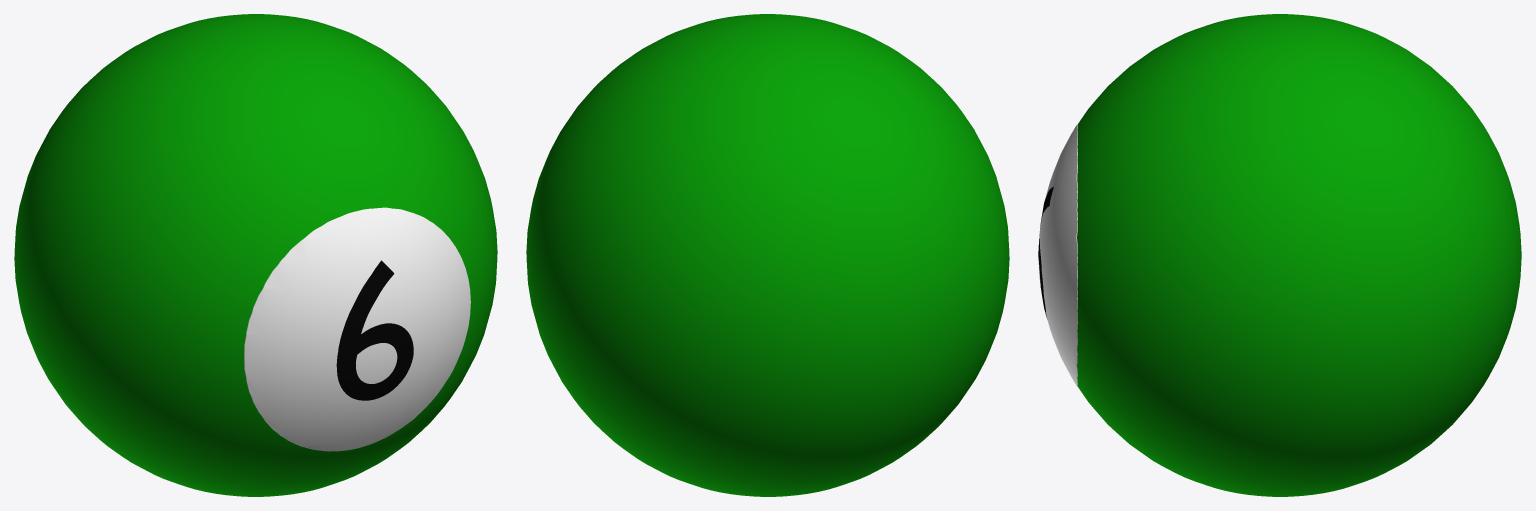
Rendered from Ball6.fbx.
3 views of the same model, side by side, from view 1: azimuth 30°, elevation 25°; view 2: azimuth 150°, elevation 25°; view 3: azimuth 270°, elevation 25° (orthographic).
Parts seen in each view (by area): view 1: Ball6; view 2: Ball6; view 3: Ball6.
Part boxes in pixels (bbox=[...]): Ball6: bbox=[14, 14, 497, 496]; Ball6: bbox=[526, 14, 1009, 496]; Ball6: bbox=[1038, 14, 1521, 496].
Size of the model in its own units: 5.7 by 5.7 by 5.7.
